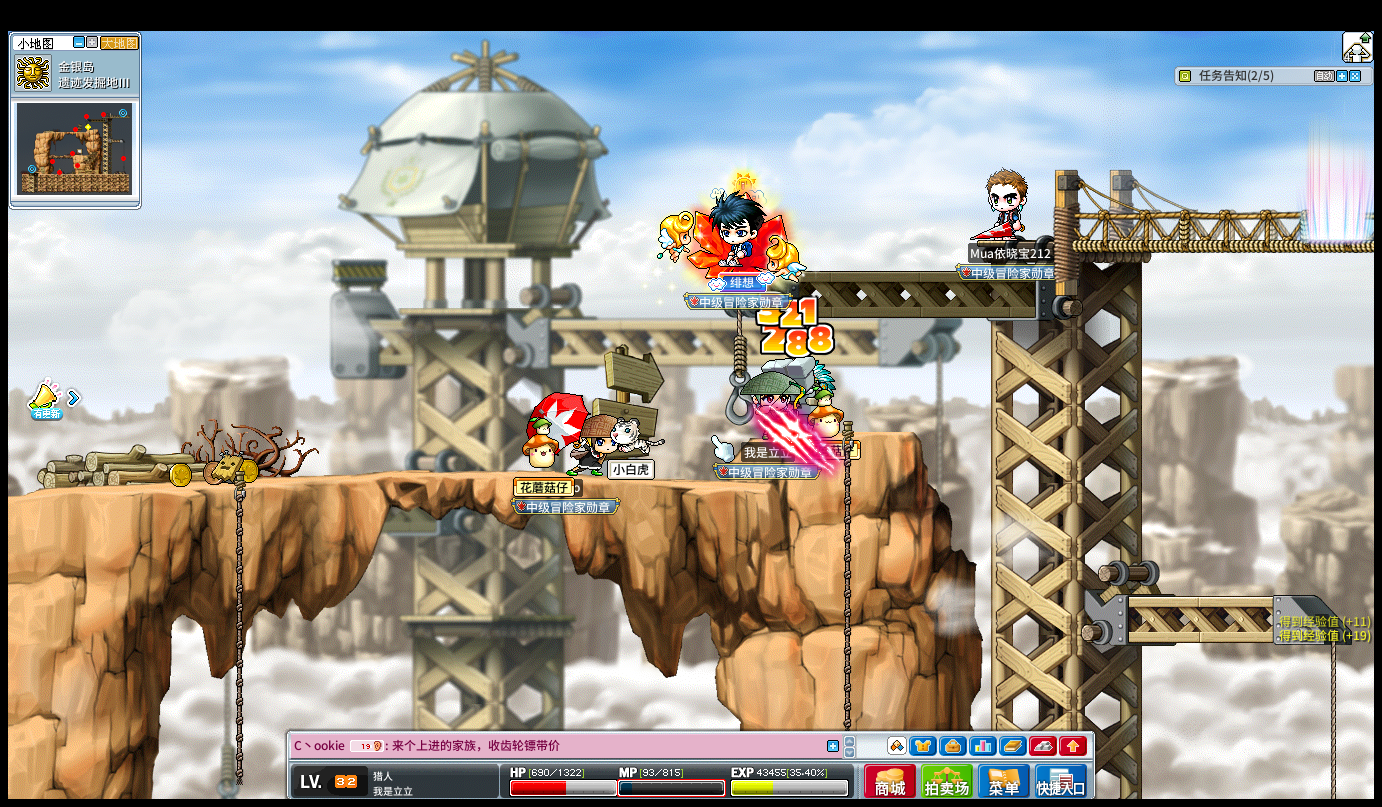floor: (3, 464, 785, 497), (18, 467, 863, 491)
rope: (838, 430, 854, 729), (231, 465, 245, 790), (1327, 647, 1341, 792)
